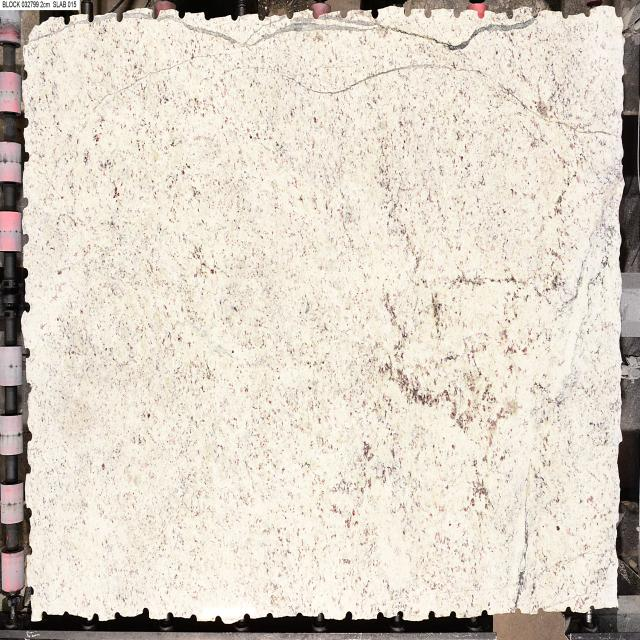chapa: (22, 8, 622, 621)
